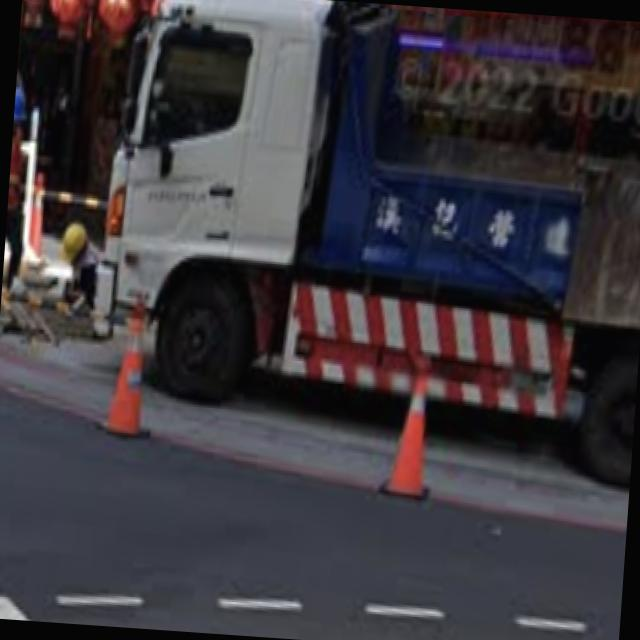cone: (92, 299, 158, 442), (379, 350, 436, 500)
